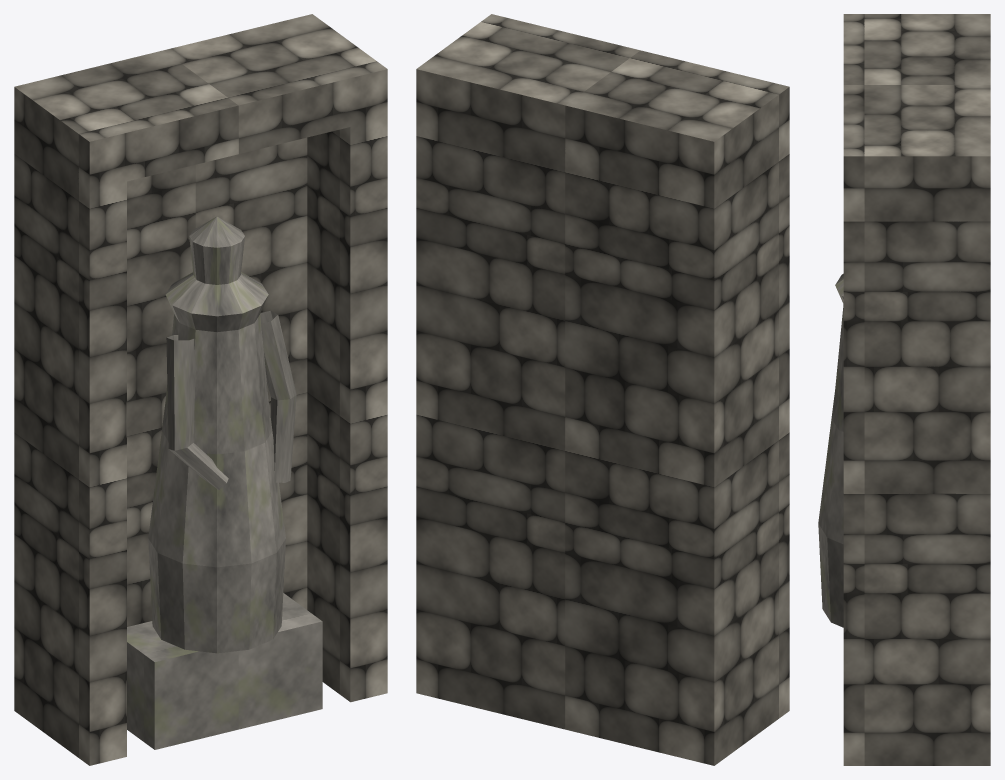
The model's file is Statue_Niche_1.gltf.
3 renders of one model, left to right at view 1: azimuth 30°, elevation 25°; view 2: azimuth 150°, elevation 25°; view 3: azimuth 270°, elevation 25°, orthographic. The views are drawn at different scales.
Visible parts, largest first — view 1: Statue_Niche_1; view 2: Statue_Niche_1; view 3: Statue_Niche_1.
Boxes of the visible parts, <box> form: Statue_Niche_1: <box>14,14,387,765</box>; Statue_Niche_1: <box>416,14,789,765</box>; Statue_Niche_1: <box>818,14,990,765</box>.
Size of the model in its own units: 1.6 by 3.2 by 0.82.
Materials: 2 (2 with a texture image).
